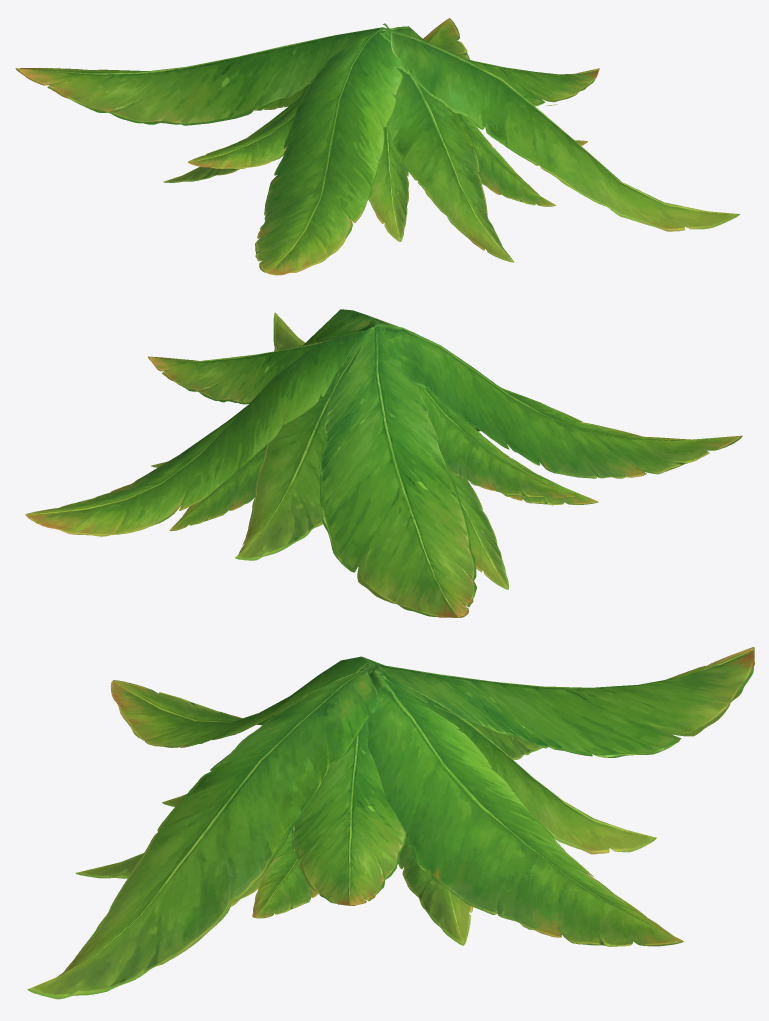
The model's file is Homeworld_Exterior_Xm_Build_House_05_01_Lod0.fbx.
The picture shows the model from 3 angles, top to bottom: view 1: azimuth 30°, elevation 25°; view 2: azimuth 150°, elevation 25°; view 3: azimuth 270°, elevation 25°; orthographic projection. The views are drawn at different scales.
Visible parts, largest first — view 1: Homeworld_Exterior_Xm_Build_House_05_01_Lod0; view 2: Homeworld_Exterior_Xm_Build_House_05_01_Lod0; view 3: Homeworld_Exterior_Xm_Build_House_05_01_Lod0.
Boxes of the visible parts, x1,y1,x2,y2 form: Homeworld_Exterior_Xm_Build_House_05_01_Lod0: (15,18,739,275); Homeworld_Exterior_Xm_Build_House_05_01_Lod0: (25,309,742,617); Homeworld_Exterior_Xm_Build_House_05_01_Lod0: (27,647,754,999).
Size of the model in its own units: 7.19 by 2.51 by 7.81.
